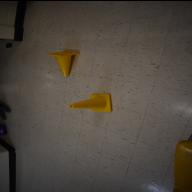cone: (46, 50, 80, 76), (68, 92, 112, 112)
